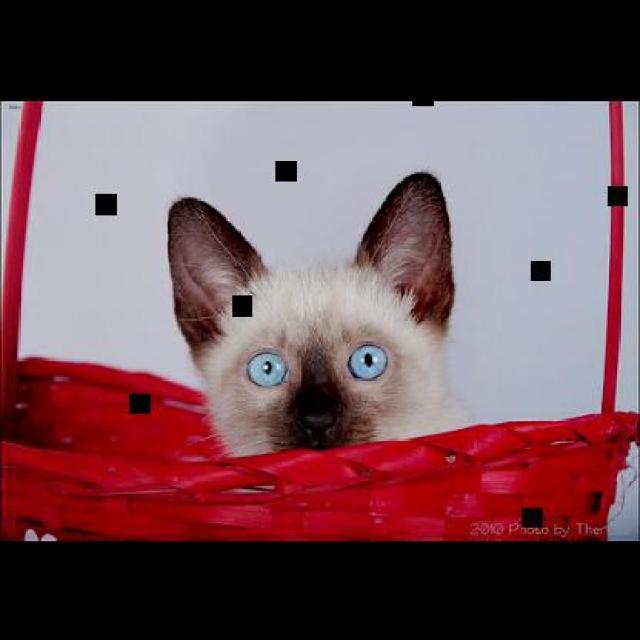unauthorized: (165, 169, 472, 462)
